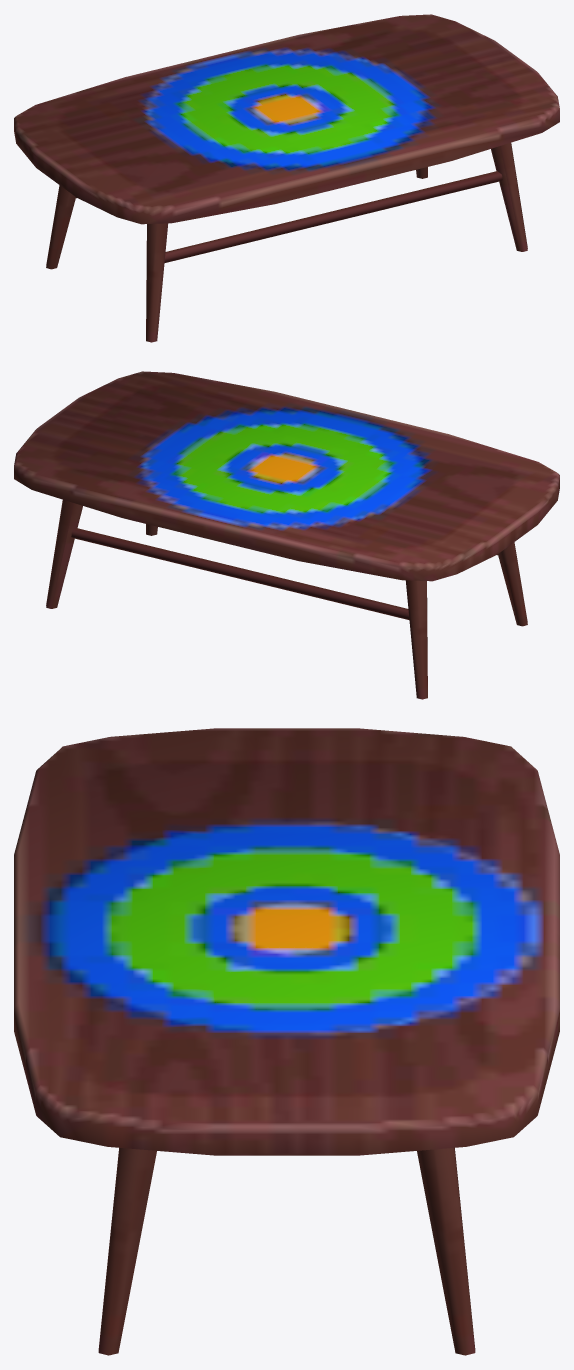
File: int_grf_tableM.dae
3 renders of one model, top to bottom at view 1: azimuth 30°, elevation 25°; view 2: azimuth 150°, elevation 25°; view 3: azimuth 270°, elevation 25°, orthographic. The views are drawn at different scales.
Parts seen in each view (by area): view 1: int_grf_tableM; view 2: int_grf_tableM; view 3: int_grf_tableM.
Part boxes in pixels (x1,y1,x2,y2): int_grf_tableM: (14, 14, 559, 342); int_grf_tableM: (14, 371, 559, 699); int_grf_tableM: (14, 728, 559, 1355).
Bounding box in the file's own units: 52.48 × 16 × 30.17.
Materials: 1 (1 with a texture image).
